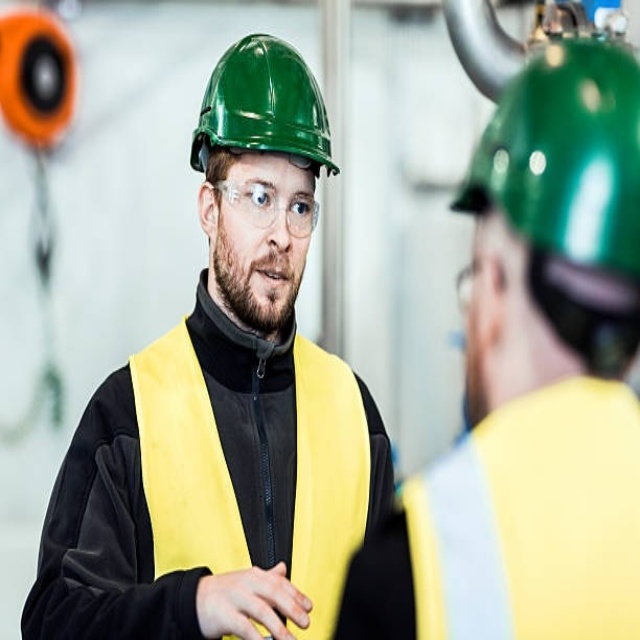Gafas: (207, 173, 321, 240)
Sin_guantes: (196, 557, 313, 640)
Sin_mascara: (247, 249, 300, 314)
